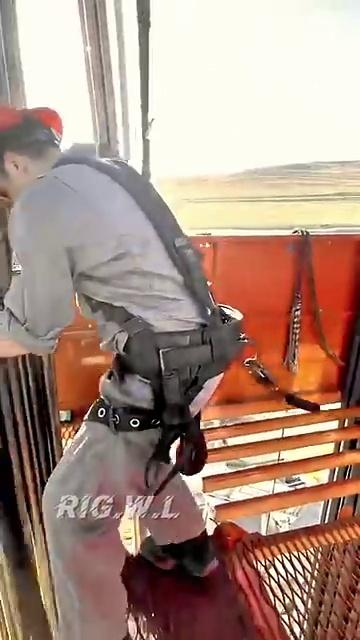helmet: (0, 83, 98, 168)
shoes: (103, 508, 248, 603)
worker: (0, 75, 231, 640)
